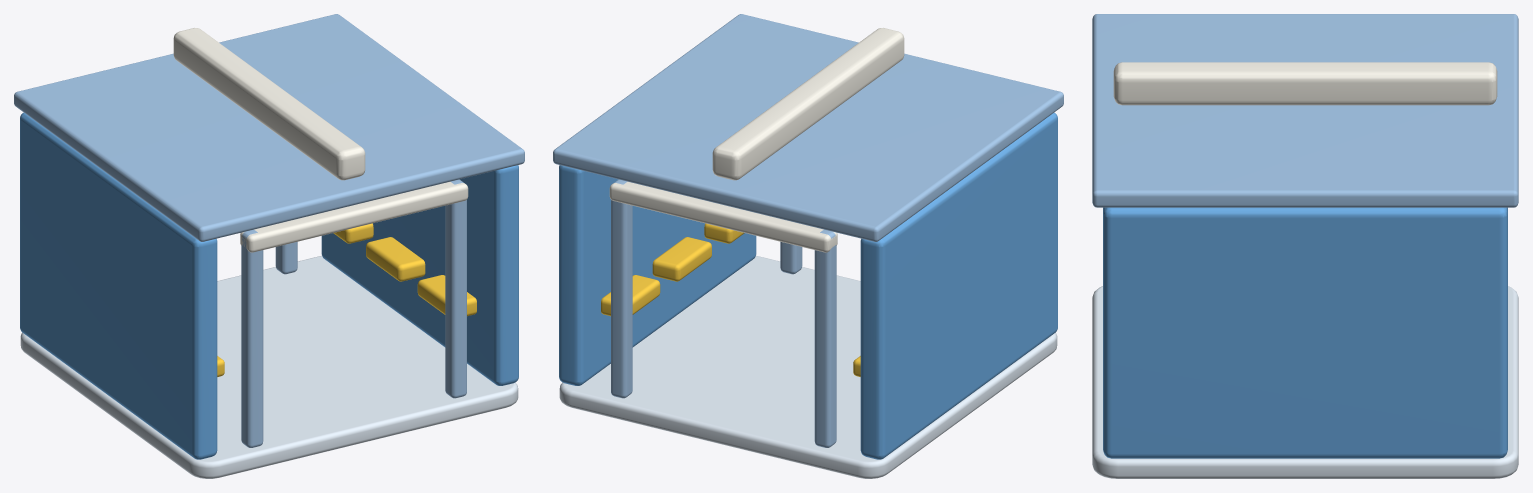
The model's file is pcv_deletion_recovery_vault.glb.
The picture shows the model from 3 angles, left to right: view 1: azimuth 30°, elevation 25°; view 2: azimuth 150°, elevation 25°; view 3: azimuth 270°, elevation 25°; orthographic projection. The views are drawn at different scales.
Visible parts, largest first — view 1: pcv_deletion_recovery_vault.roof_above_clearance, pcv_deletion_recovery_vault.side_enclosure_wall, pcv_deletion_recovery_vault.walk_surface_floor, pcv_deletion_recovery_vault.side_enclosure_wall.001, pcv_deletion_recovery_vault.split_roof_recovery_crane, pcv_deletion_recovery_vault.clearance_lintel, pcv_deletion_recovery_vault.clear_door_jamb, pcv_deletion_recovery_vault.clear_door_jamb.001, pcv_deletion_recovery_vault.wall_recovery_snapshot_tray.004, pcv_deletion_recovery_vault.wall_recovery_snapshot_tray.003, pcv_deletion_recovery_vault.clear_door_jamb.003; view 2: pcv_deletion_recovery_vault.roof_above_clearance, pcv_deletion_recovery_vault.side_enclosure_wall, pcv_deletion_recovery_vault.walk_surface_floor, pcv_deletion_recovery_vault.side_enclosure_wall.001, pcv_deletion_recovery_vault.split_roof_recovery_crane, pcv_deletion_recovery_vault.clearance_lintel.001, pcv_deletion_recovery_vault.clear_door_jamb.002, pcv_deletion_recovery_vault.clear_door_jamb.003, pcv_deletion_recovery_vault.wall_recovery_snapshot_tray.004, pcv_deletion_recovery_vault.wall_recovery_snapshot_tray.005, pcv_deletion_recovery_vault.clear_door_jamb.001; view 3: pcv_deletion_recovery_vault.side_enclosure_wall.001, pcv_deletion_recovery_vault.roof_above_clearance, pcv_deletion_recovery_vault.split_roof_recovery_crane, pcv_deletion_recovery_vault.walk_surface_floor.
Boxes of the visible parts, x1,y1,x2,y2 form: pcv_deletion_recovery_vault.roof_above_clearance: [14, 14, 524, 241]; pcv_deletion_recovery_vault.side_enclosure_wall: [20, 112, 217, 459]; pcv_deletion_recovery_vault.walk_surface_floor: [20, 255, 518, 478]; pcv_deletion_recovery_vault.side_enclosure_wall.001: [321, 165, 518, 385]; pcv_deletion_recovery_vault.split_roof_recovery_crane: [173, 28, 365, 180]; pcv_deletion_recovery_vault.clearance_lintel: [240, 181, 468, 252]; pcv_deletion_recovery_vault.clear_door_jamb: [241, 229, 263, 447]; pcv_deletion_recovery_vault.clear_door_jamb.001: [445, 179, 466, 398]; pcv_deletion_recovery_vault.wall_recovery_snapshot_tray.004: [366, 237, 425, 281]; pcv_deletion_recovery_vault.wall_recovery_snapshot_tray.003: [417, 275, 476, 316]; pcv_deletion_recovery_vault.clear_door_jamb.003: [275, 242, 297, 274]; pcv_deletion_recovery_vault.roof_above_clearance: [553, 14, 1063, 241]; pcv_deletion_recovery_vault.side_enclosure_wall: [860, 112, 1057, 459]; pcv_deletion_recovery_vault.walk_surface_floor: [559, 255, 1057, 478]; pcv_deletion_recovery_vault.side_enclosure_wall.001: [559, 165, 756, 385]; pcv_deletion_recovery_vault.split_roof_recovery_crane: [712, 28, 904, 180]; pcv_deletion_recovery_vault.clearance_lintel.001: [609, 181, 837, 252]; pcv_deletion_recovery_vault.clear_door_jamb.002: [814, 229, 836, 447]; pcv_deletion_recovery_vault.clear_door_jamb.003: [611, 179, 632, 398]; pcv_deletion_recovery_vault.wall_recovery_snapshot_tray.004: [652, 237, 711, 281]; pcv_deletion_recovery_vault.wall_recovery_snapshot_tray.005: [601, 275, 660, 316]; pcv_deletion_recovery_vault.clear_door_jamb.001: [780, 242, 802, 274]; pcv_deletion_recovery_vault.side_enclosure_wall.001: [1103, 207, 1507, 458]; pcv_deletion_recovery_vault.roof_above_clearance: [1092, 14, 1518, 207]; pcv_deletion_recovery_vault.split_roof_recovery_crane: [1113, 62, 1497, 105]; pcv_deletion_recovery_vault.walk_surface_floor: [1092, 286, 1518, 478].
Size of the model in its own units: 4 by 3.36 by 4.
